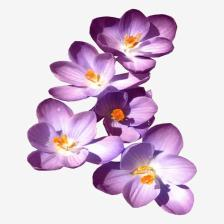purple: (28, 42, 197, 215), (27, 98, 124, 170), (48, 41, 150, 101), (104, 10, 166, 51)
